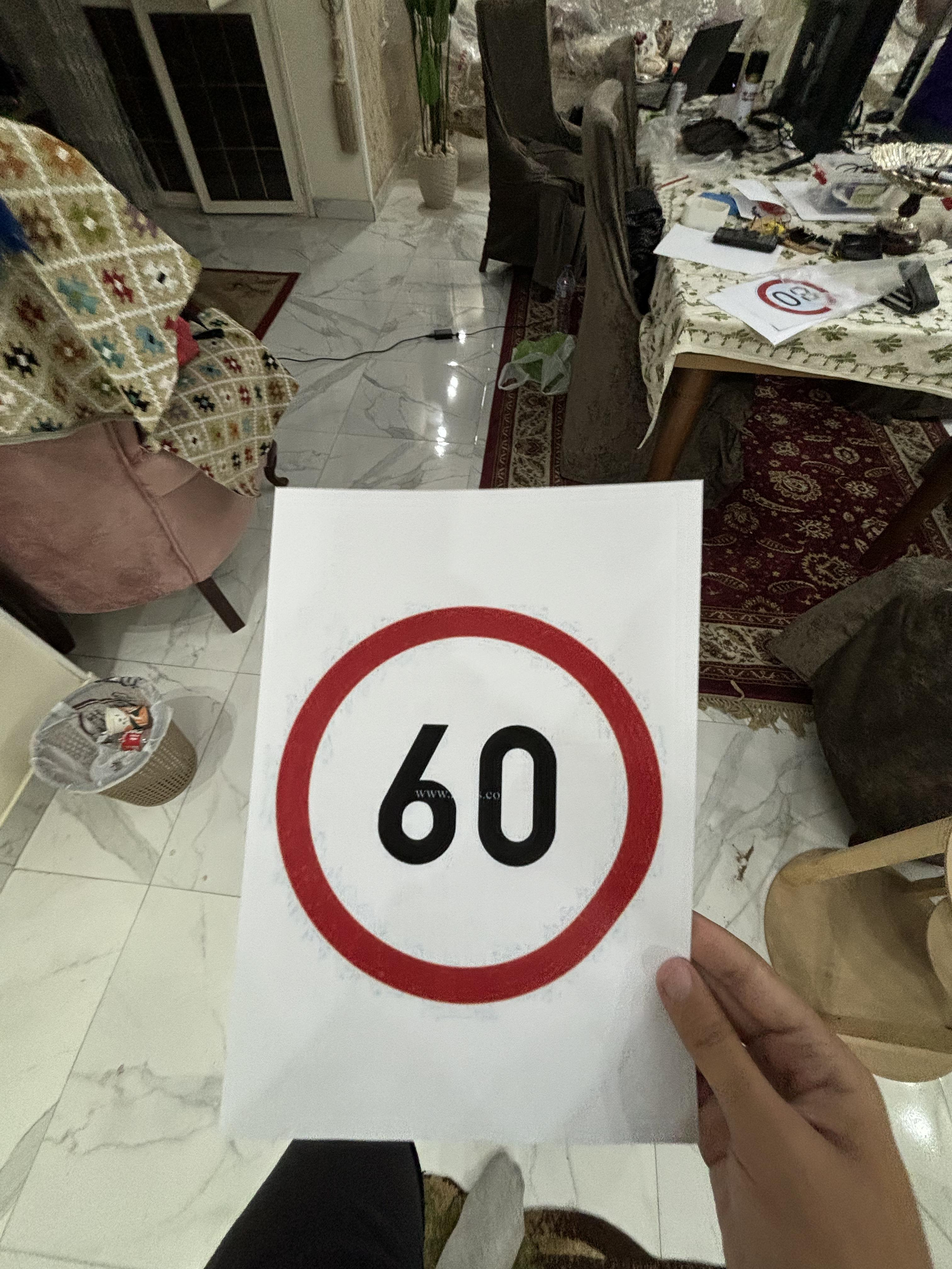60-Speed: (271, 583, 664, 1004)
